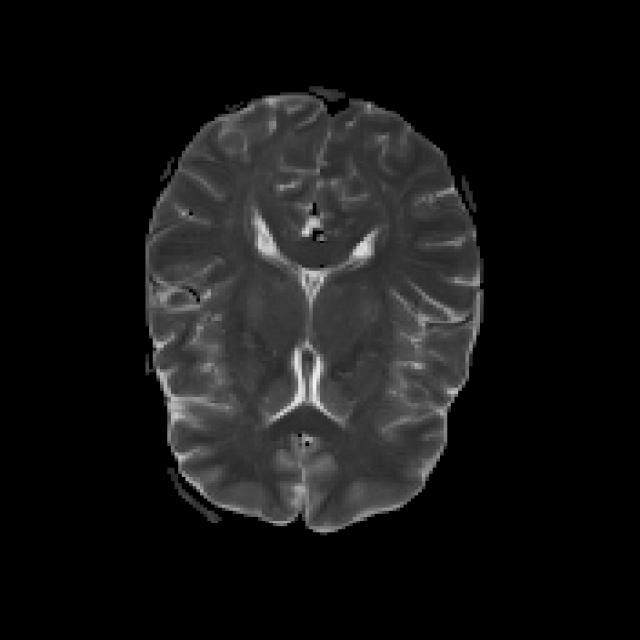CONTROL: (142, 83, 484, 532)
